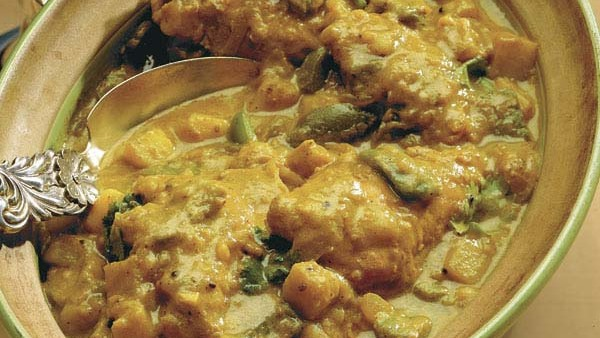chicken_curry: (109, 2, 542, 337)
